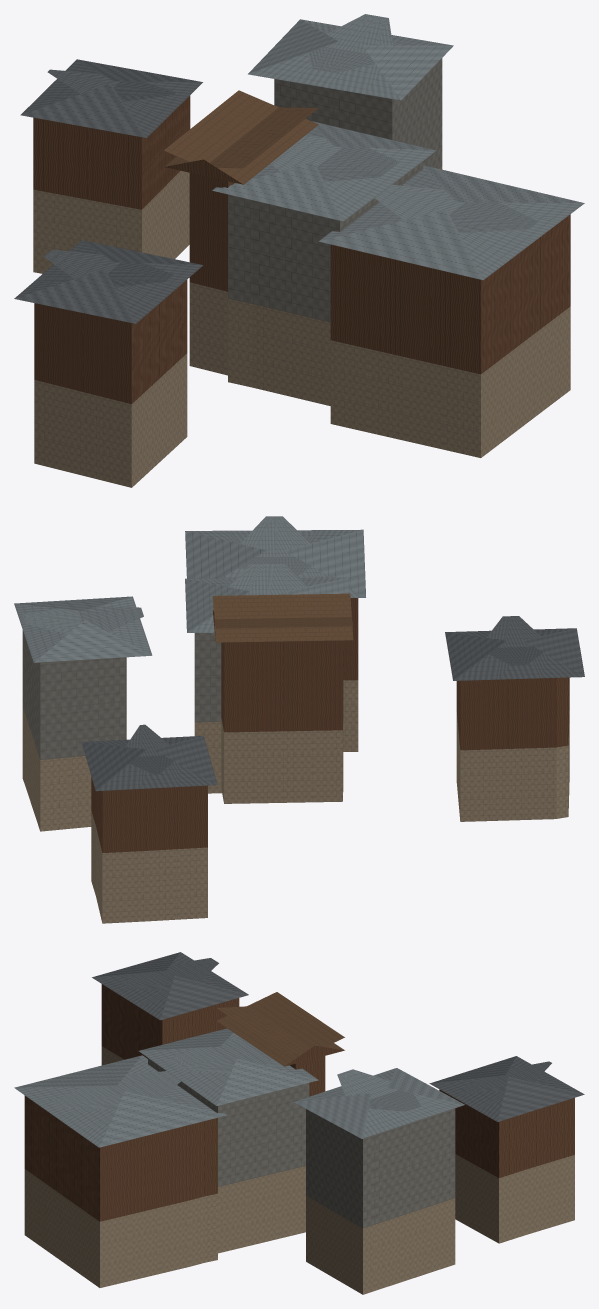
File: bld_c-4_17_537.gltf
3 views of the same model, one above another, from view 1: azimuth 30°, elevation 25°; view 2: azimuth 150°, elevation 25°; view 3: azimuth 270°, elevation 25° (orthographic). The views are drawn at different scales.
Parts seen in each view (by area): view 1: bld_c-4_17_537; view 2: bld_c-4_17_537; view 3: bld_c-4_17_537.
Part boxes in pixels (left/top/right/bottom): bld_c-4_17_537: left=14, top=14, right=584, bottom=487; bld_c-4_17_537: left=14, top=516, right=584, bottom=923; bld_c-4_17_537: left=14, top=952, right=584, bottom=1294.
Size of the model in its own units: 35.33 by 14.4 by 39.76.
Materials: 7 (7 with a texture image).
